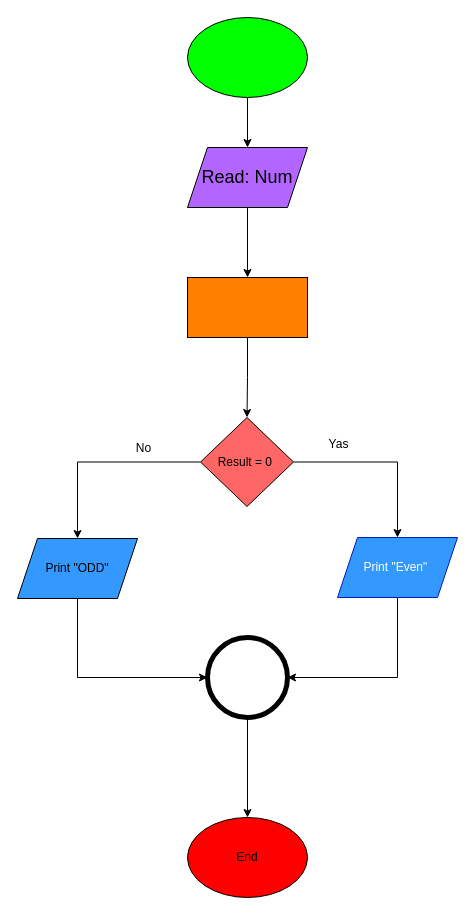
The diagram is 475 pixels wide and 915 high, and some of its shapes have lost their labels. The centre of each missing label's shape, as x and y in pixels:
"Result = Num mod 2" goes at (247,307).
"Start" goes at (247,57).
